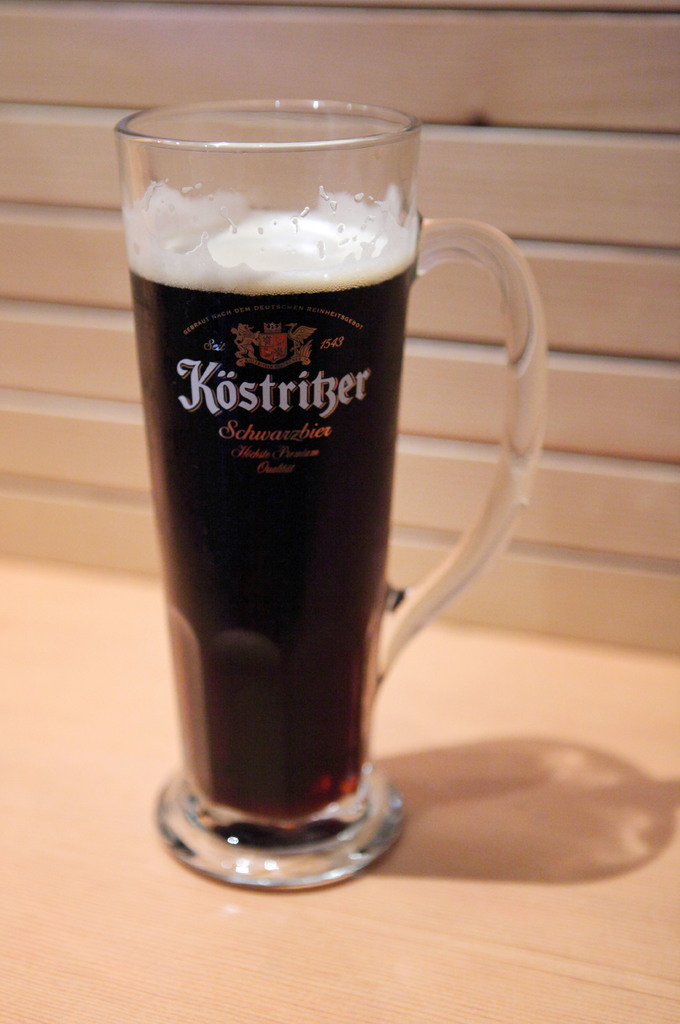Beer: (112, 97, 549, 889)
